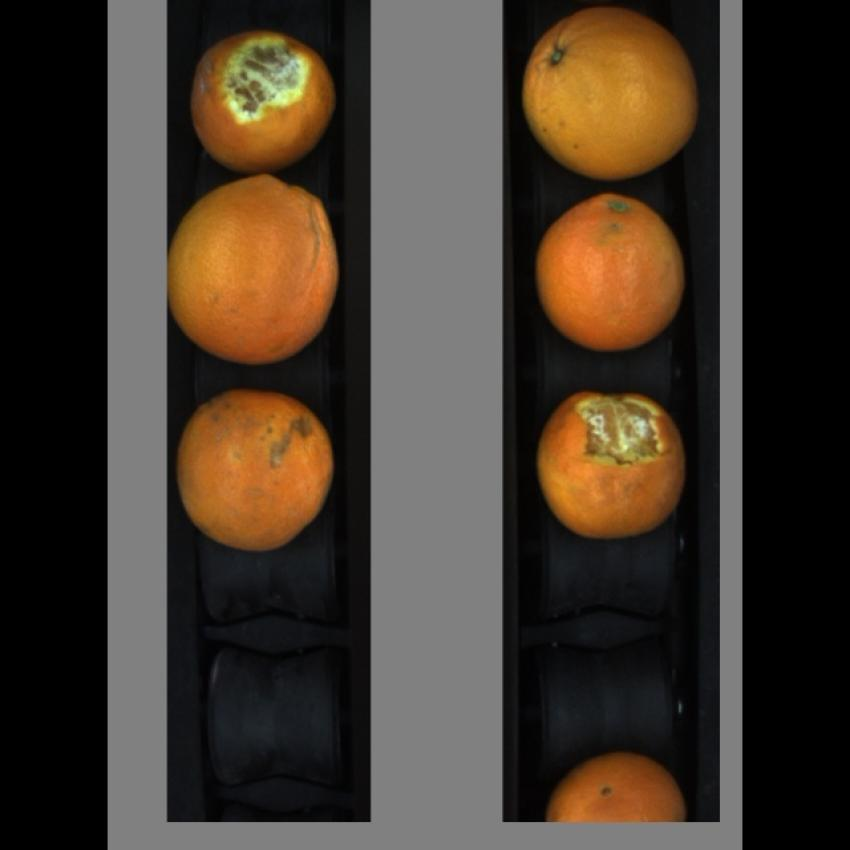Buen estado: (542, 751, 690, 827)
Mal estado: (518, 7, 710, 181), (170, 174, 341, 369), (176, 386, 338, 556), (528, 194, 695, 356), (531, 380, 691, 547), (182, 28, 340, 176)
